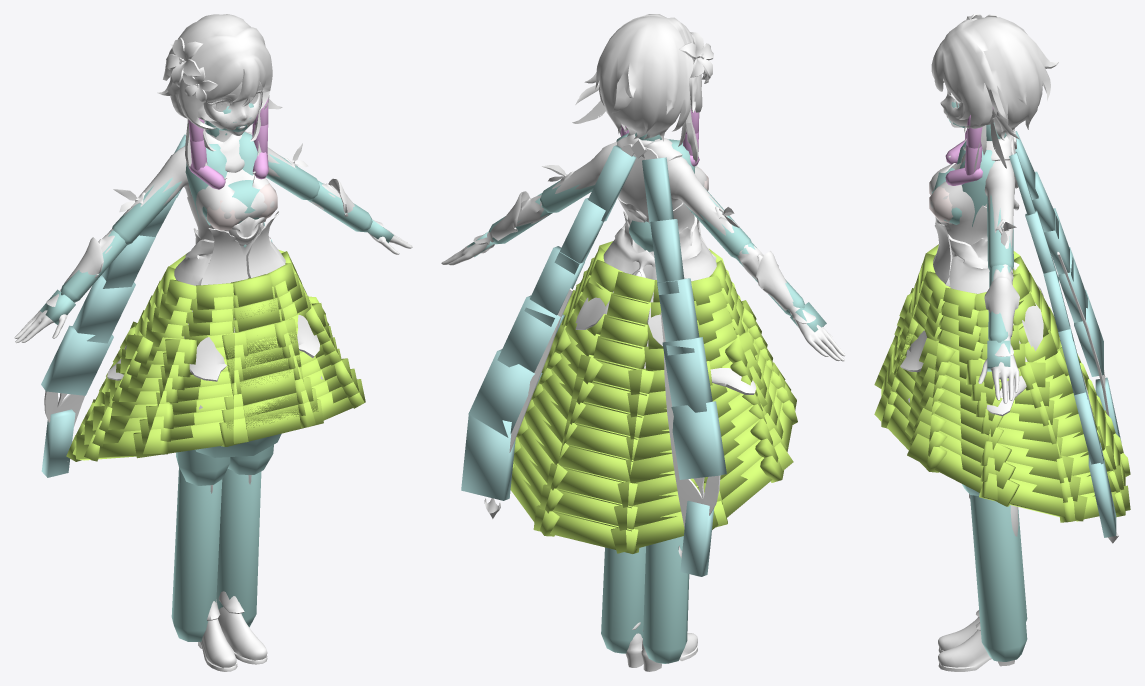
The model's file is Ying2.fbx.
3 views of the same model, side by side, from view 1: azimuth 30°, elevation 25°; view 2: azimuth 150°, elevation 25°; view 3: azimuth 270°, elevation 25° (orthographic).
Visible parts, largest first — view 1: 女主角_mesh, 00E_右ひざ, 00G_左ひざ, 012_+AmiceB R A15, 011_+AmiceB R A14, 013_+AmiceB R A16, 04F_裙子_11_9, 046_裙子_11_0, 003_右腕, 010_+AmiceB R A13, 04E_裙子_11_8, 00D_右足 (+34 smaller); view 2: 女主角_mesh, 00E_右ひざ, 00G_左ひざ, 00X_+AmiceB L A16, 012_+AmiceB R A15, 00W_+AmiceB L A15, 011_+AmiceB R A14, 00V_+AmiceB L A14, 010_+AmiceB R A13, 013_+AmiceB R A16, 04B_裙子_11_5, 00Z_+AmiceB R A12 (+47 smaller); view 3: 女主角_mesh, 00G_左ひざ, 049_裙子_11_3, 048_裙子_11_2, 03Z_裙子_10_3, 03P_裙子_9_3, 00X_+AmiceB L A16, 03O_裙子_9_2, 012_+AmiceB R A15, 03Y_裙子_10_2, 047_裙子_11_1, 03F_裙子_8_3 (+46 smaller).
Part boxes in pixels (box(x1,y1,x2,y2)): 女主角_mesh: box(14, 14, 412, 671); 00E_右ひざ: box(171, 467, 222, 641); 00G_左ひざ: box(216, 468, 261, 627); 012_+AmiceB R A15: box(41, 325, 113, 395); 011_+AmiceB R A14: box(73, 275, 135, 343); 013_+AmiceB R A16: box(41, 409, 75, 477); 04F_裙子_11_9: box(133, 418, 248, 458); 046_裙子_11_0: box(219, 399, 323, 446); 003_右腕: box(112, 177, 183, 244); 010_+AmiceB R A13: box(102, 235, 155, 288); 04E_裙子_11_8: box(76, 429, 168, 460); 00D_右足: box(176, 450, 230, 485); 女主角_mesh: box(441, 14, 845, 671); 00E_右ひざ: box(643, 536, 689, 663); 00G_左ひざ: box(601, 546, 645, 653); 00X_+AmiceB L A16: box(461, 414, 515, 500); 012_+AmiceB R A15: box(671, 401, 726, 479); 00W_+AmiceB L A15: box(468, 349, 542, 437); 011_+AmiceB R A14: box(662, 337, 712, 412); 00V_+AmiceB L A14: box(497, 295, 564, 372); 010_+AmiceB R A13: box(657, 278, 699, 355); 013_+AmiceB R A16: box(680, 501, 714, 576); 04B_裙子_11_5: box(533, 505, 639, 553); 00Z_+AmiceB R A12: box(650, 219, 684, 294); 女主角_mesh: box(900, 14, 1118, 671); 00G_左ひざ: box(970, 495, 1027, 661); 049_裙子_11_3: box(979, 473, 1087, 521); 048_裙子_11_2: box(907, 433, 1019, 506); 03Z_裙子_10_3: box(980, 457, 1080, 501); 03P_裙子_9_3: box(980, 441, 1073, 481); 00X_+AmiceB L A16: box(1088, 442, 1116, 537); 03O_裙子_9_2: box(913, 408, 1011, 471); 012_+AmiceB R A15: box(1074, 289, 1103, 376); 03Y_裙子_10_2: box(910, 421, 1015, 488); 047_裙子_11_1: box(874, 393, 947, 472); 03F_裙子_8_3: box(987, 427, 1062, 461).
Bounding box in the file's own units: 1138 × 1723 × 629.
